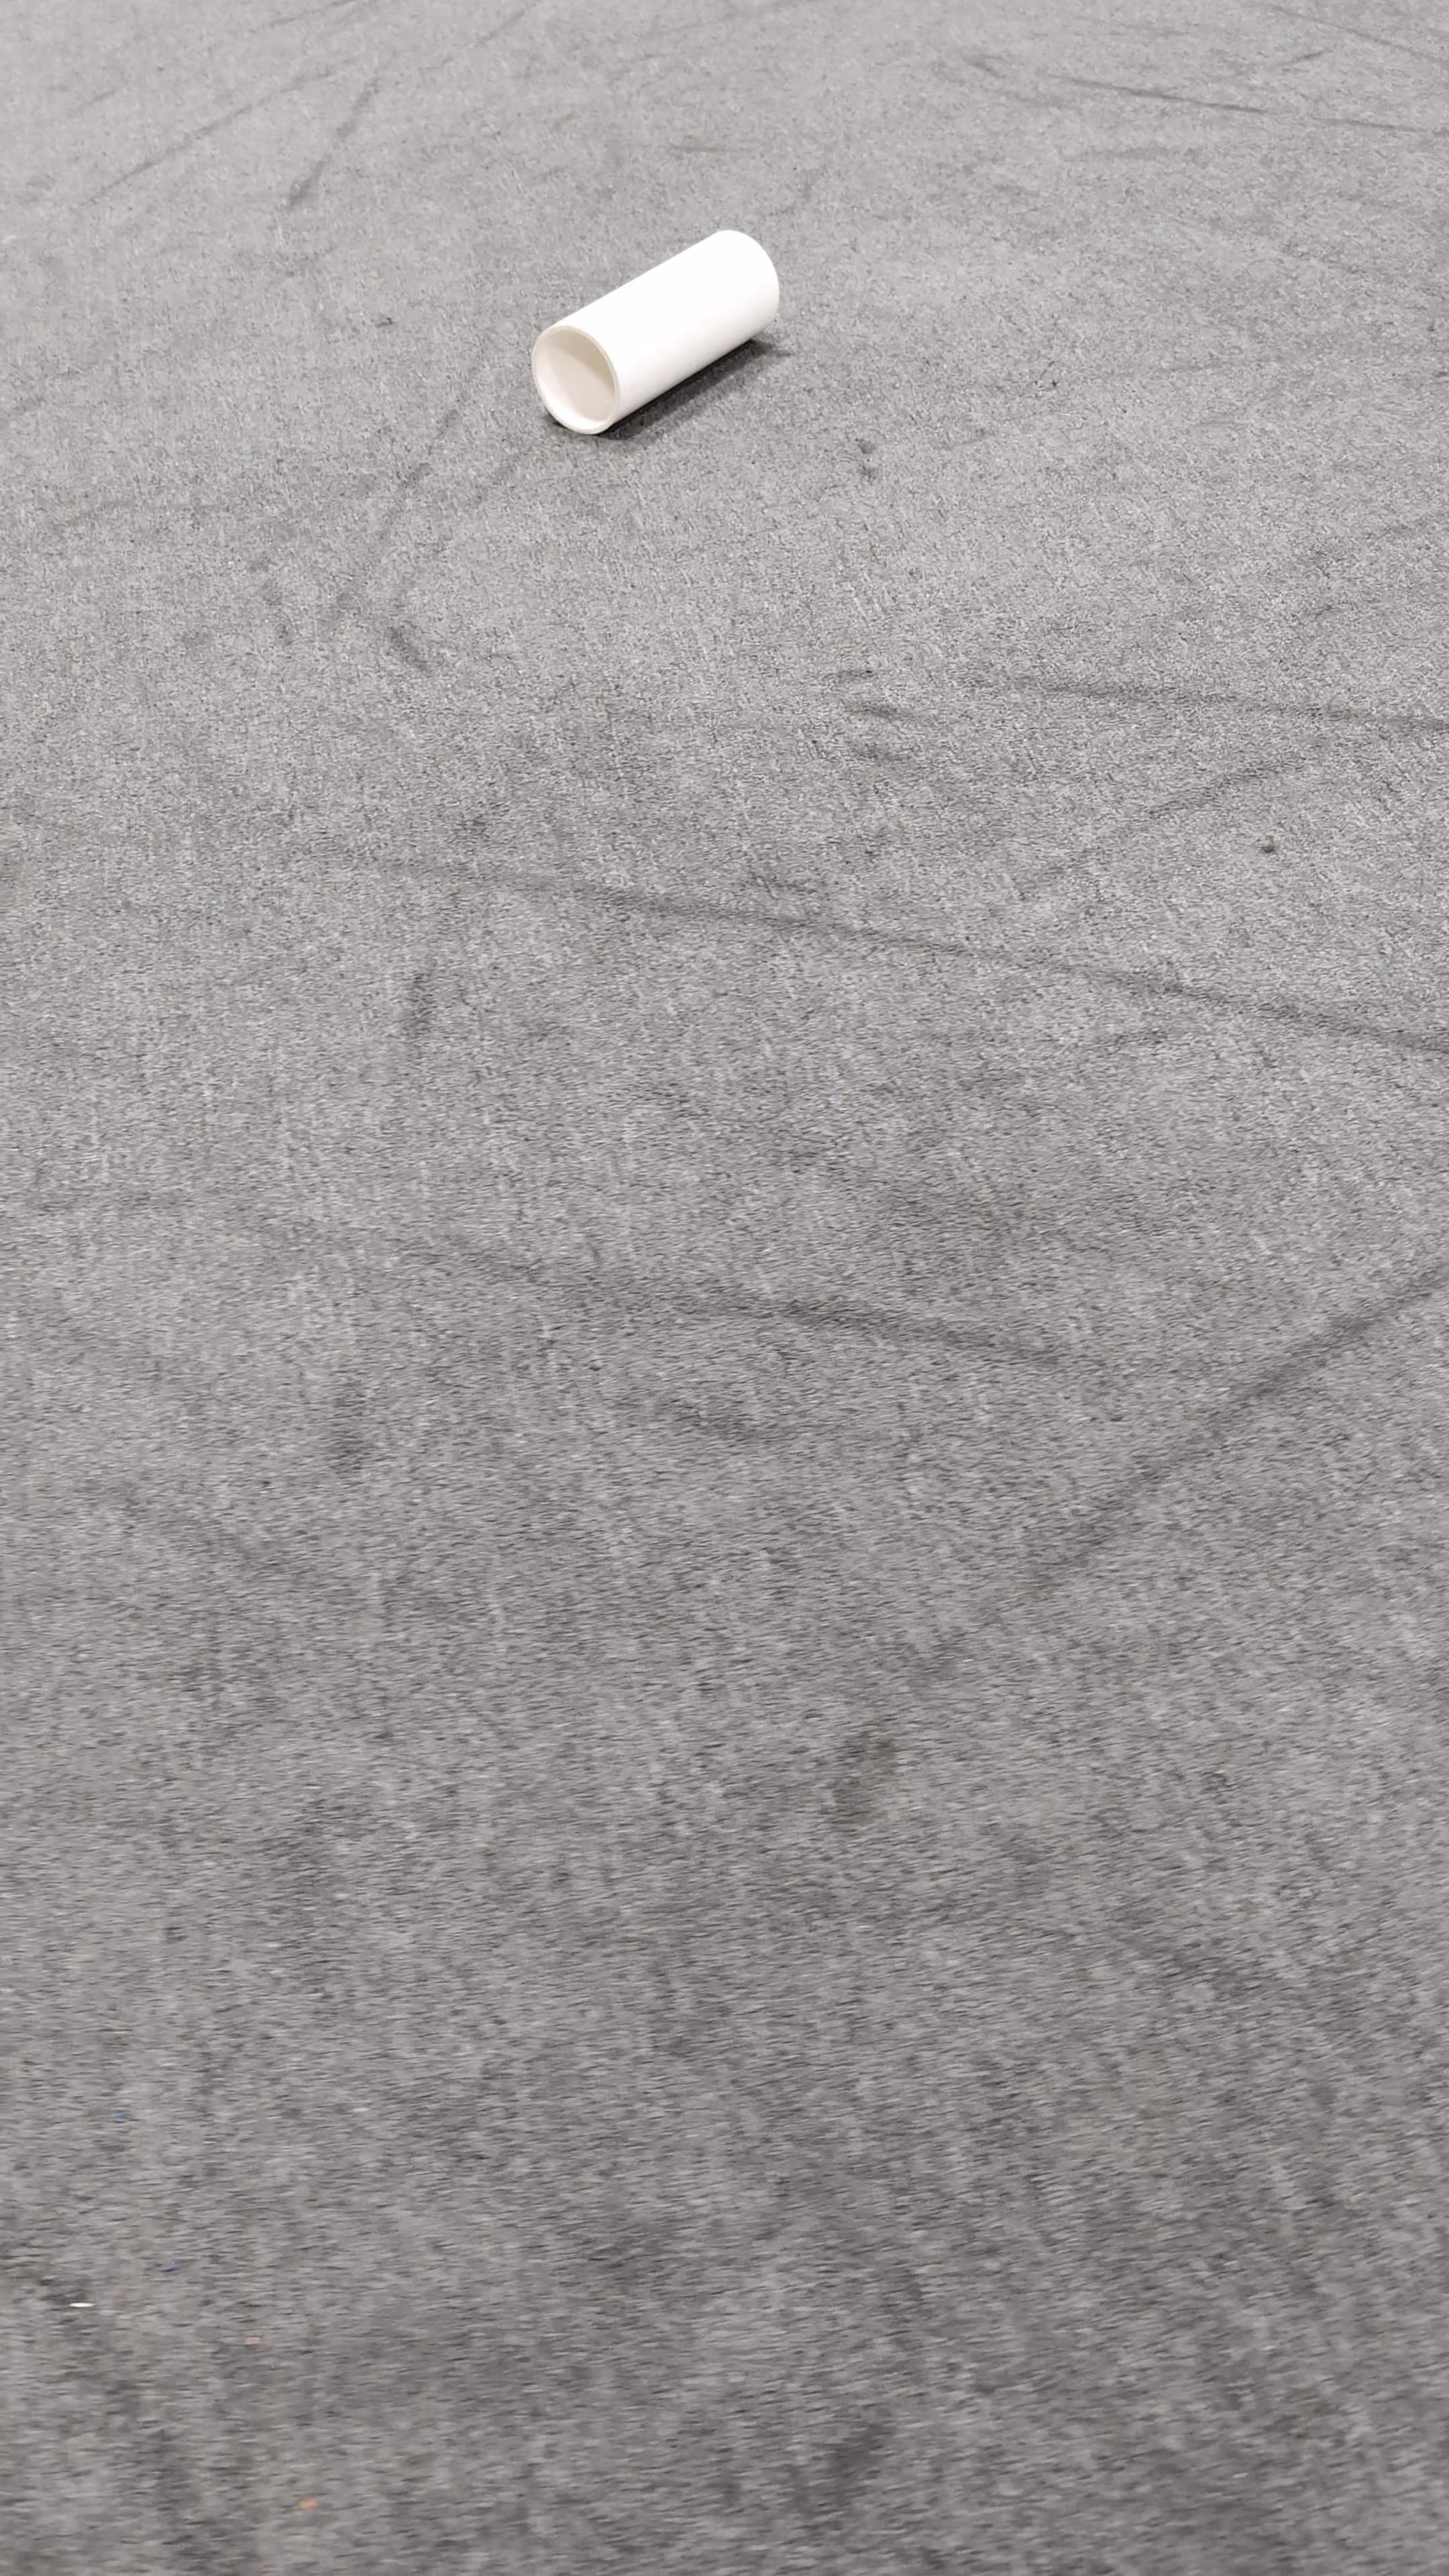coral: (531, 223, 780, 433)
